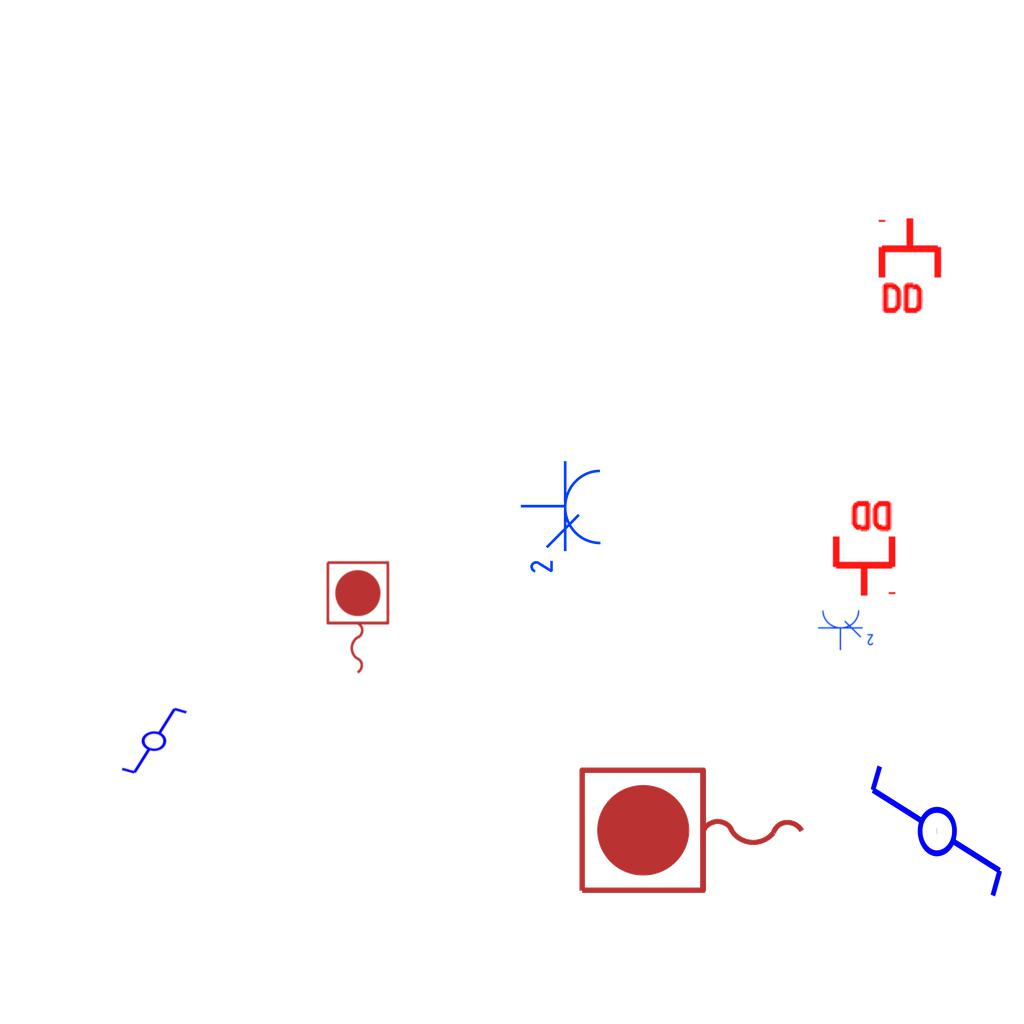Datenanschluss_zweifach: (877, 215, 946, 318), (828, 496, 897, 599)
Schukosteckdose_mehrfach: (519, 459, 607, 580), (817, 607, 877, 651)
Wechselschalter: (863, 761, 1007, 918), (111, 704, 189, 776)
Zugtaster: (571, 760, 815, 904), (321, 557, 393, 679)
